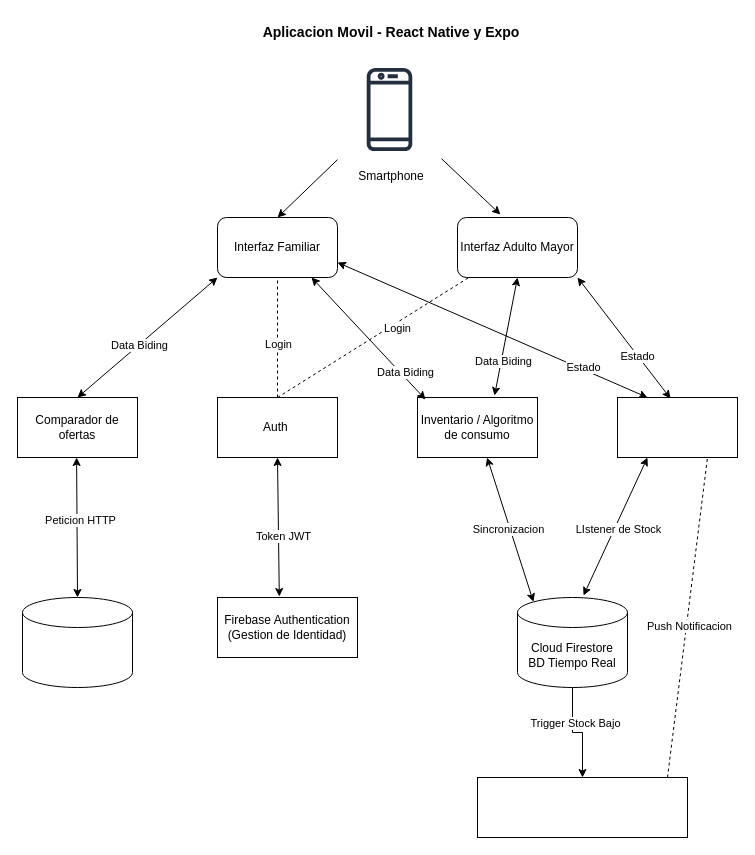
The diagram is 755 pixels wide and 855 high, and some of its shapes have lost their labels. The shapes that lost their labels are listed below. From the top down, each one's centre as x and y in pixels, then its label:
(x=677, y=427): Alertas
(x=77, y=642): APIs Farmascias / JSON de precios
(x=582, y=807): Firebase Cloud Messaging (Notifiaciones Push)
